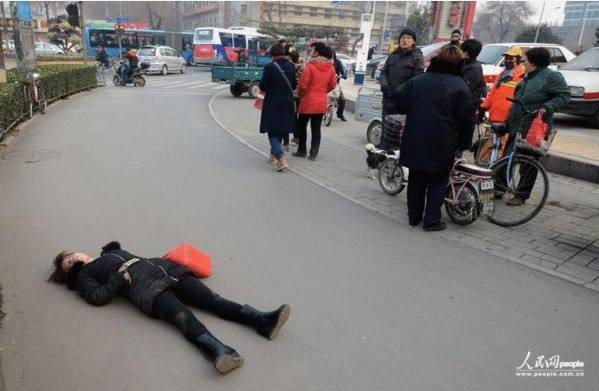10+: (95, 3, 577, 216)
down: (41, 238, 297, 375)
